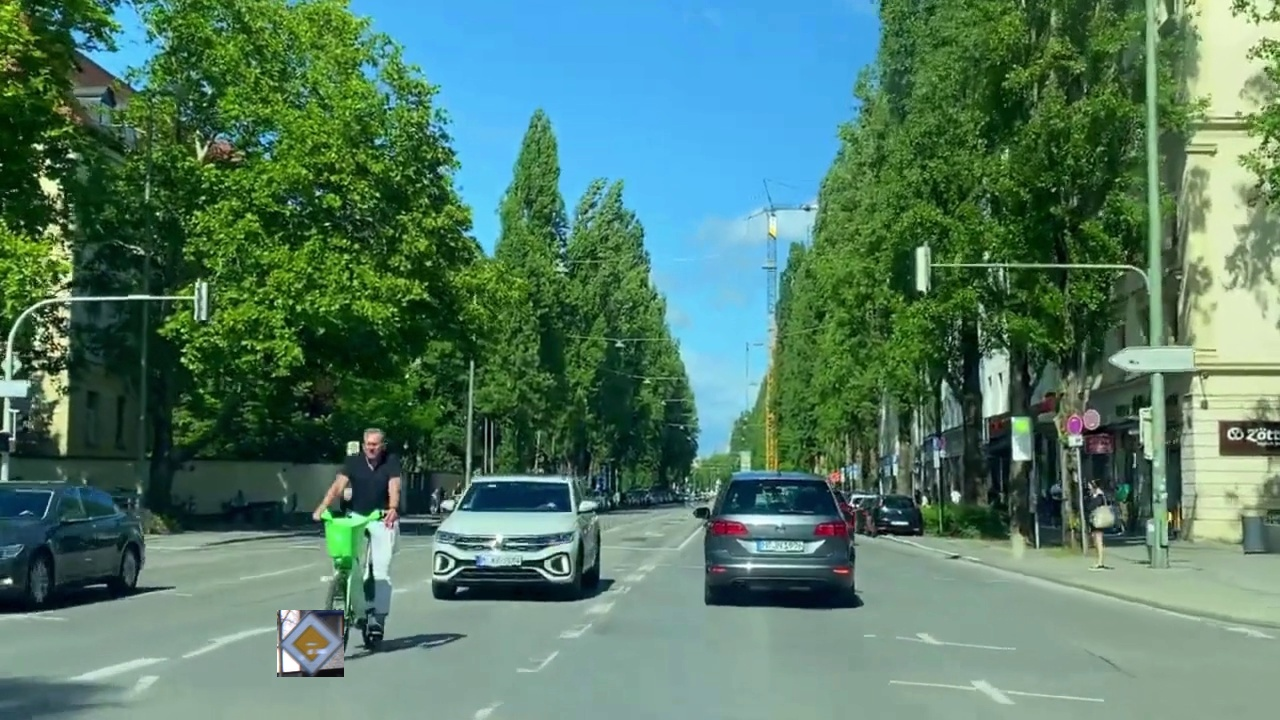Priority road: (277, 610, 344, 677)
